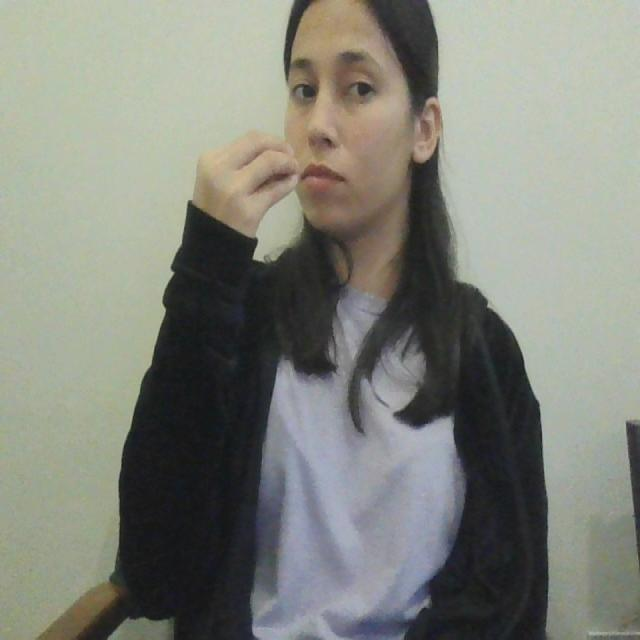Yemek: (195, 125, 354, 203)
